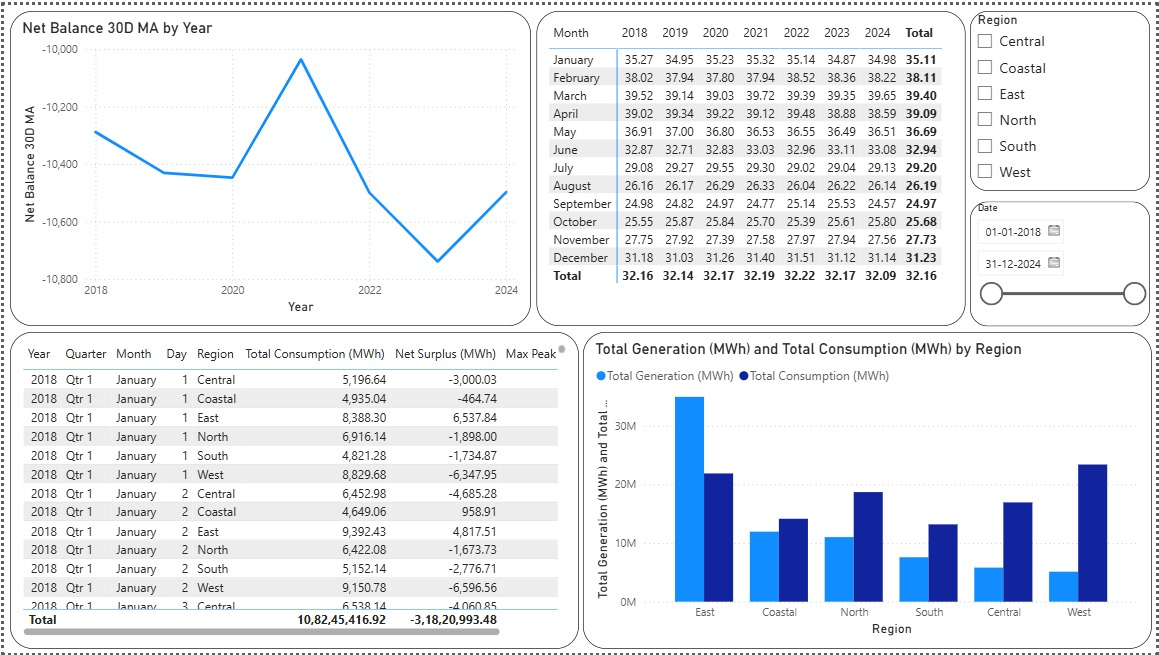

What the dashboard file says about the page in this screenshot:
{"tool":"powerbi","page":{"name":"Regional Operations","canvas":[1280,720],"ordinal":1},"visuals":[{"type":"slicer","fields":{"Values":["Region.Region"]},"box":[1073.3,6.7,200,200],"z":0},{"type":"slicer","fields":{"Values":["Date.Date"]},"box":[1073.3,218.3,200,138.3],"z":1},{"type":"lineChart","fields":{"Category":["Date.Date.Variation.Date Hierarchy.Year","Date.Date.Variation.Date Hierarchy.Quarter","Date.Date.Variation.Date Hierarchy.Month","Date.Date.Variation.Date Hierarchy.Day"],"Y":["Consumption.Net Balance 30D MA"]},"box":[6,6,578.3,350],"z":2},{"type":"clusteredColumnChart","fields":{"Category":["Region.Region"],"Y":["Consumption.Total Generation (MWh)","Consumption.Total Consumption (MWh)"]},"box":[643,363,631.7,351.7],"z":3},{"type":"pivotTable","fields":{"Rows":["Date.Date.Variation.Date Hierarchy.Month"],"Columns":["Date.Date.Variation.Date Hierarchy.Year"],"Values":["Consumption.Capacity Factor (%)"]},"box":[591,6,476.7,350],"z":4},{"type":"tableEx","fields":{"Values":["Date.Date.Variation.Date Hierarchy.Year","Date.Date.Variation.Date Hierarchy.Quarter","Date.Date.Variation.Date Hierarchy.Month","Date.Date.Variation.Date Hierarchy.Day","Region.Region","Consumption.Total Consumption (MWh)","Consumption.Net Surplus (MWh)","Consumption.Max Peak Load (MW)"]},"box":[6,363,631.7,351.7],"z":5}]}

Visuals, with their boxes in screenshot pixels (x1, y1, x2, y2), scaled from the page's 1280x720 canvas onto the 1159x655 screenshot:
slicer - Region.Region: box=[972, 6, 1153, 188]
slicer - Date.Date: box=[972, 199, 1153, 324]
lineChart - Date.Date.Variation.Date Hierarchy.Year x Date.Date.Variation.Date Hierarchy.Quarter: box=[5, 5, 529, 324]
clusteredColumnChart - Region.Region x Consumption.Total Generation (MWh): box=[582, 330, 1154, 650]
pivotTable - Date.Date.Variation.Date Hierarchy.Month x Date.Date.Variation.Date Hierarchy.Year: box=[535, 5, 967, 324]
tableEx - Date.Date.Variation.Date Hierarchy.Year x Date.Date.Variation.Date Hierarchy.Quarter: box=[5, 330, 577, 650]
